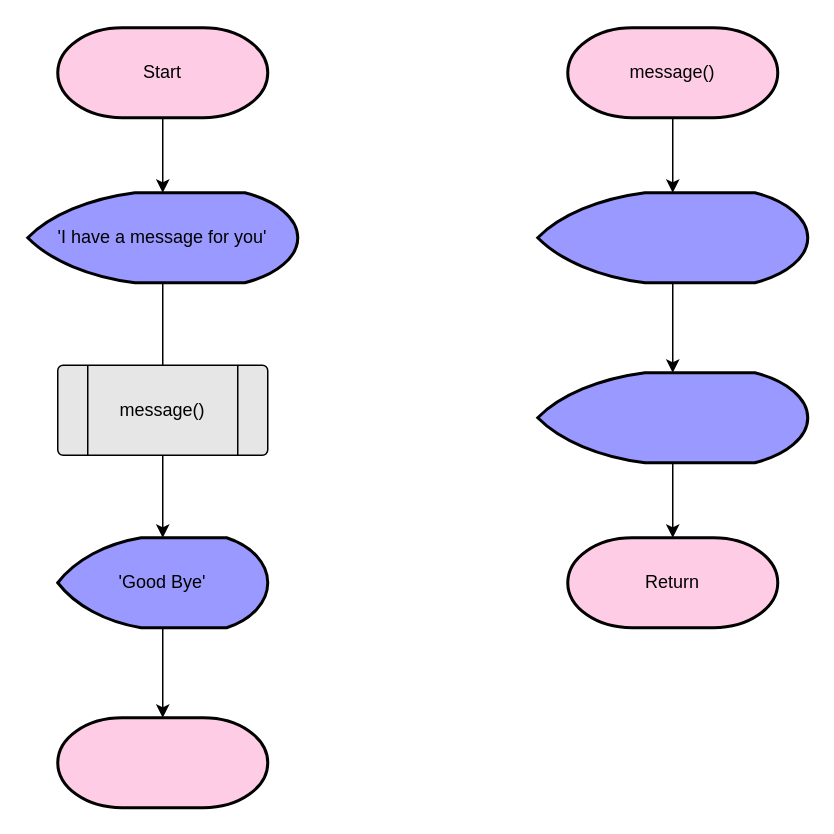
Image size: 834x834. Some labels were removed from this diagram. The box of each missing label's shape, as (x1, y1, x2, y2) in pixels:
'I'm Arthur': (536, 190, 808, 284)
'King of the Brions': (536, 370, 808, 464)
Stop: (56, 716, 268, 808)
